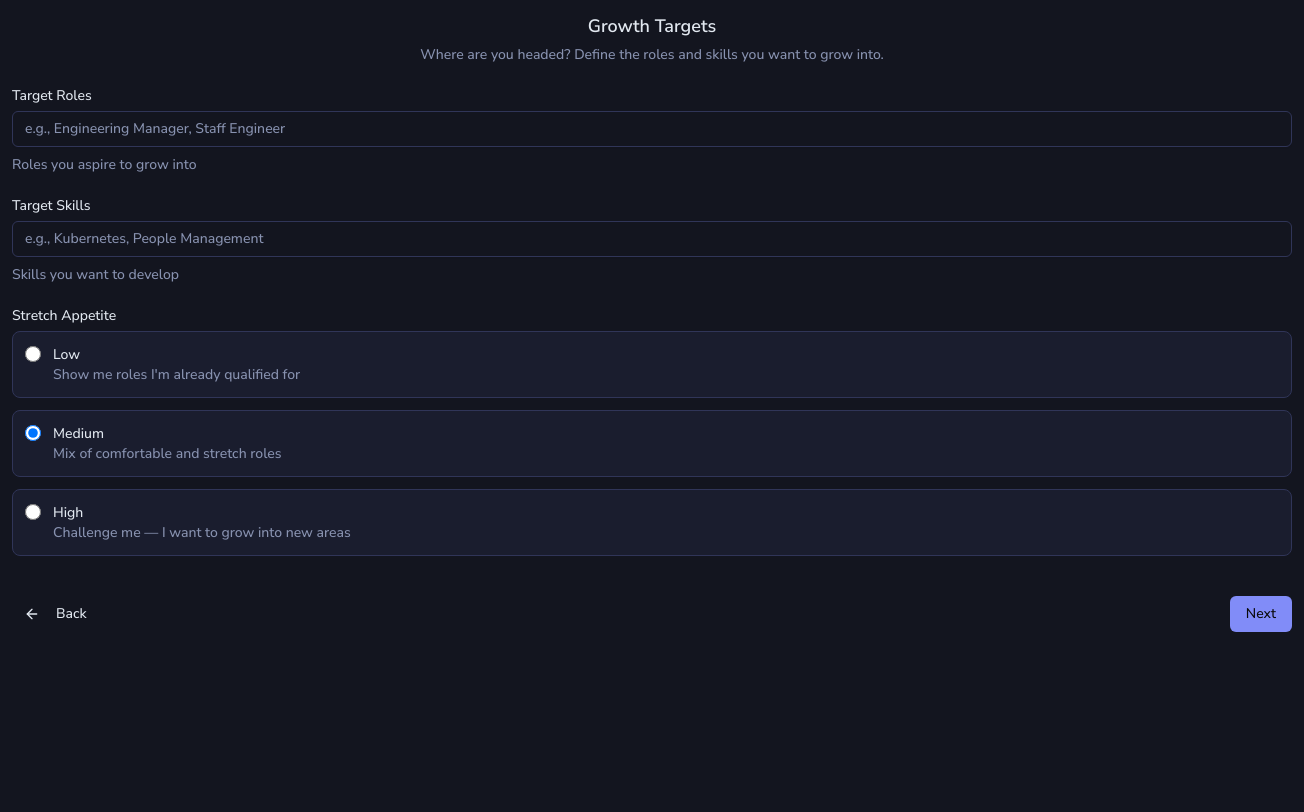
Test: GrowthTargetsStep › tag interaction › adds a target role tag on Enter
Check: the form with test id "growth-targets-form" is shown, box [12,89,1292,556]
In the field with placeholder "e.g., Engineering Manager, Staff Engineer": [652, 129] box [25,119,1279,139], type "VP of Engineering"
Then press Enter
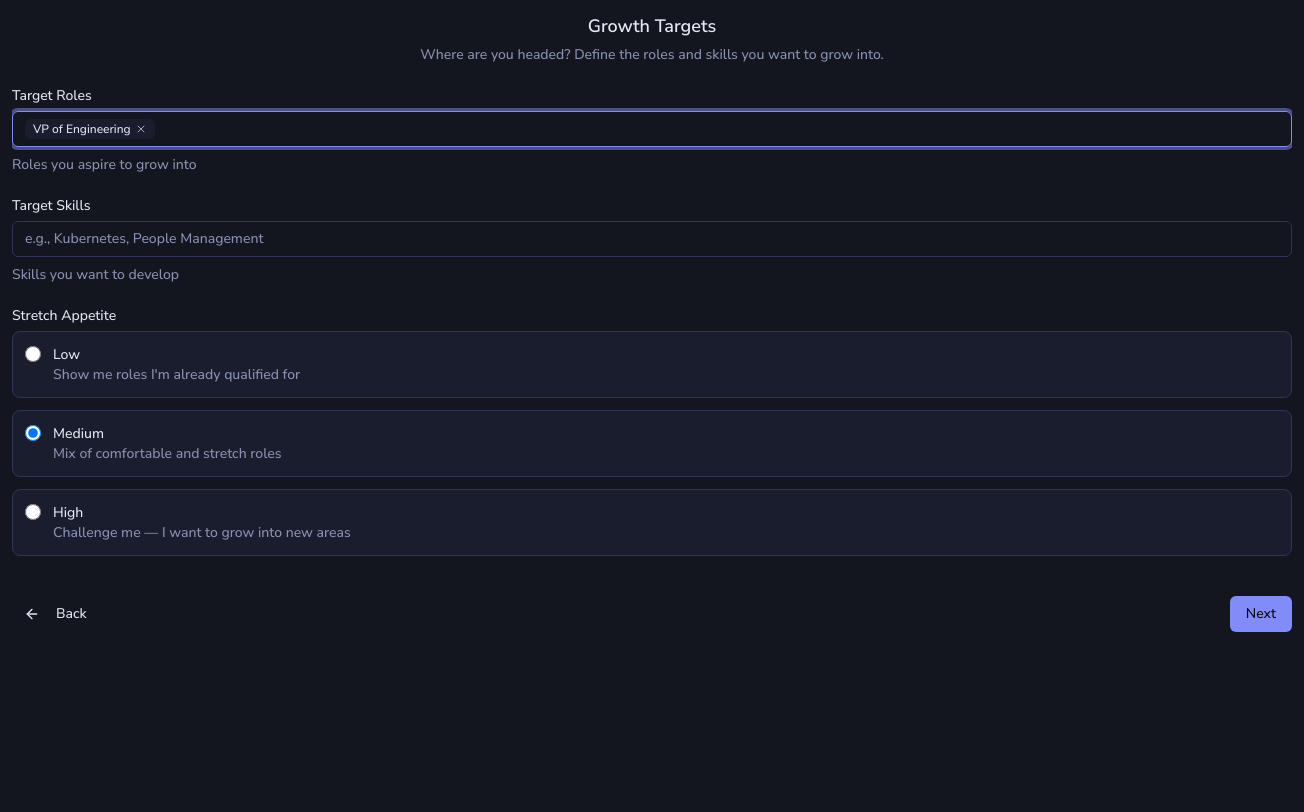
Check: the text "VP of Engineering" is shown, box [25,119,155,139]
